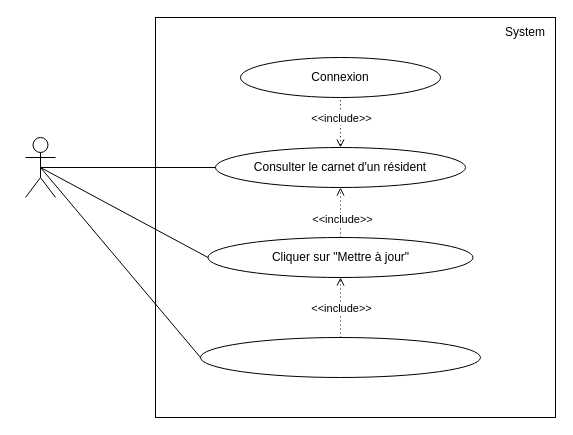
Image size: 573x435. Some labels were removed from this diagram. Each missing label, with the centre of its shape:
Employé: point 40,167
Remplir les champs requis: point 340,357
